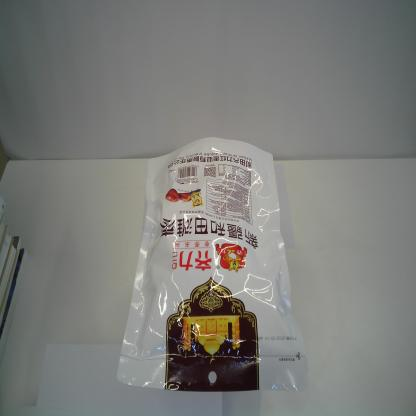Dried Food: (114, 134, 309, 396)
